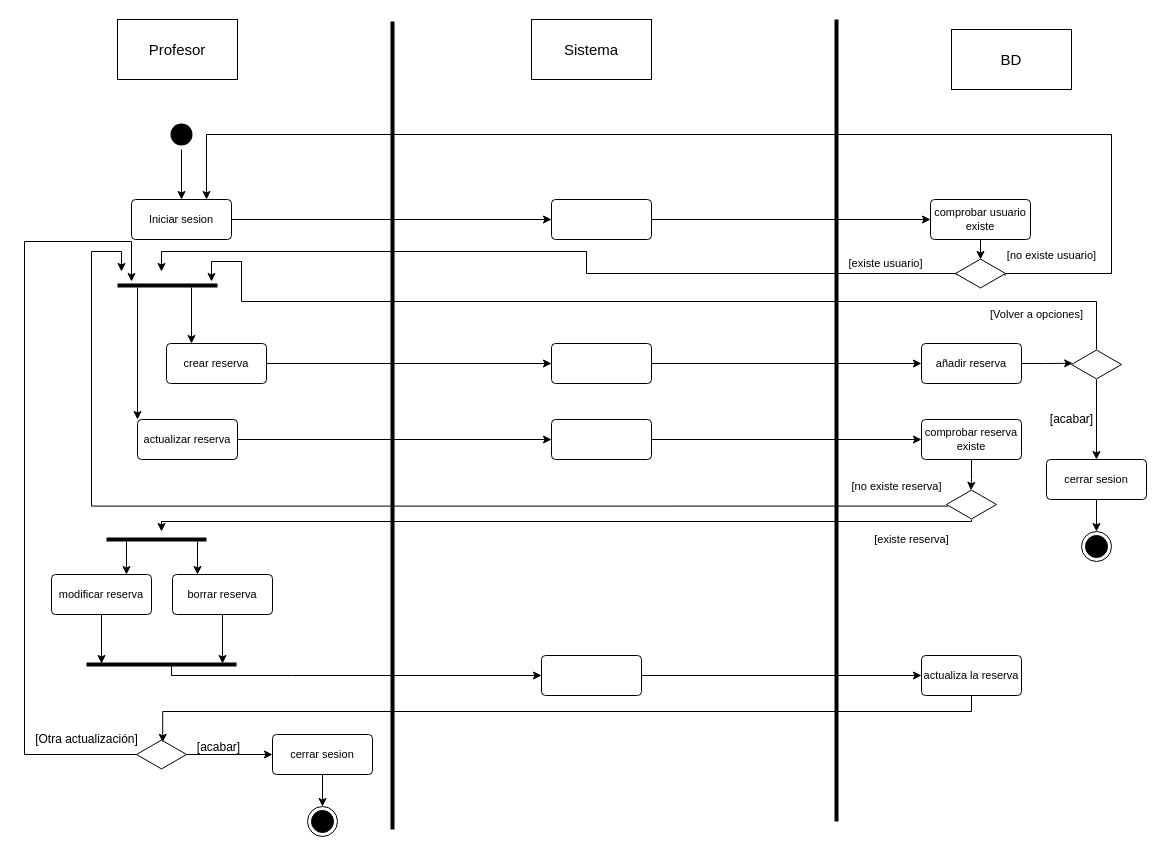
The diagram is 1164 pixels wide and 854 high, and some of its shapes have lost their labels. The centre of each missing label's shape, as x and y in pixels:
"comprobar actualización de reserva" belongs at point (591, 675).
"comprobar reserva a actualizar" belongs at point (601, 439).
"comprobar reserva a crear" belongs at point (601, 363).
"comprobar usuario iniciado" belongs at point (601, 219).
